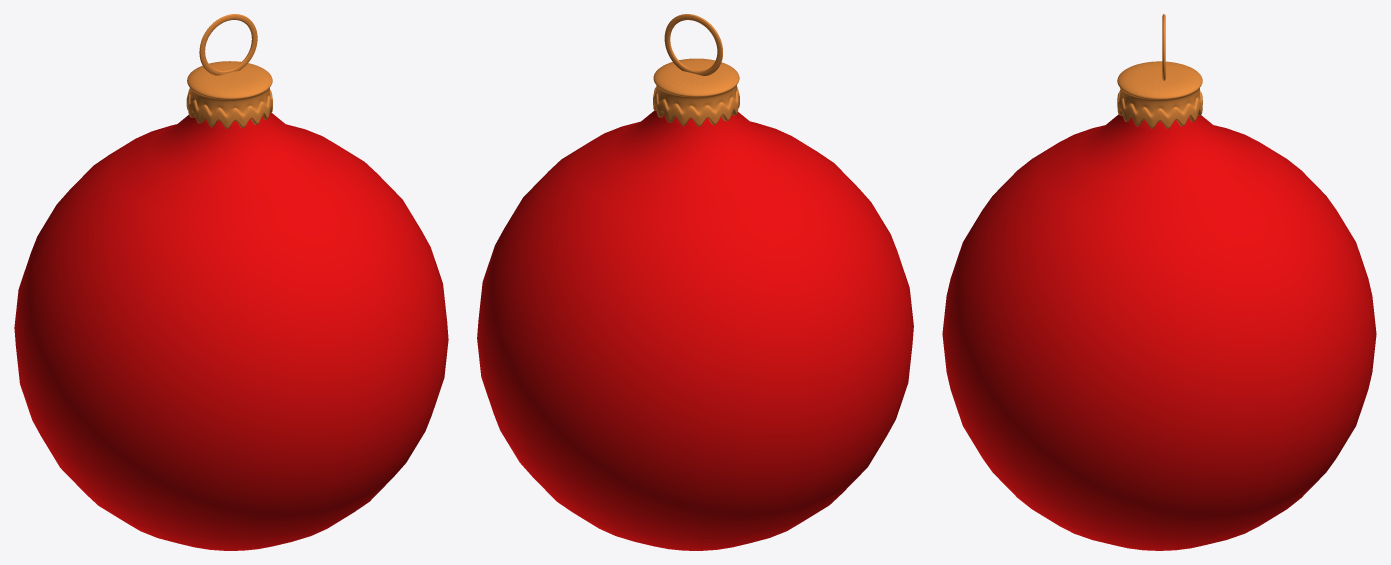
File: uploads_files_2765019_xmaslight.fbx
The picture shows the model from 3 angles, left to right: view 1: azimuth 30°, elevation 25°; view 2: azimuth 150°, elevation 25°; view 3: azimuth 270°, elevation 25°; orthographic projection.
Visible parts, largest first — view 1: Sphere, Circle, Cylinder; view 2: Sphere, Circle, Cylinder; view 3: Sphere, Circle.
Part boxes in pixels (left/top/right/bottom): Sphere: left=14, top=113, right=448, bottom=550; Circle: left=186, top=61, right=272, bottom=128; Cylinder: left=199, top=14, right=257, bottom=75; Sphere: left=477, top=110, right=913, bottom=550; Circle: left=653, top=58, right=739, bottom=126; Cylinder: left=664, top=14, right=722, bottom=75; Sphere: left=942, top=114, right=1376, bottom=550; Circle: left=1117, top=61, right=1202, bottom=128.
Size of the model in its own units: 166 by 217 by 166.
